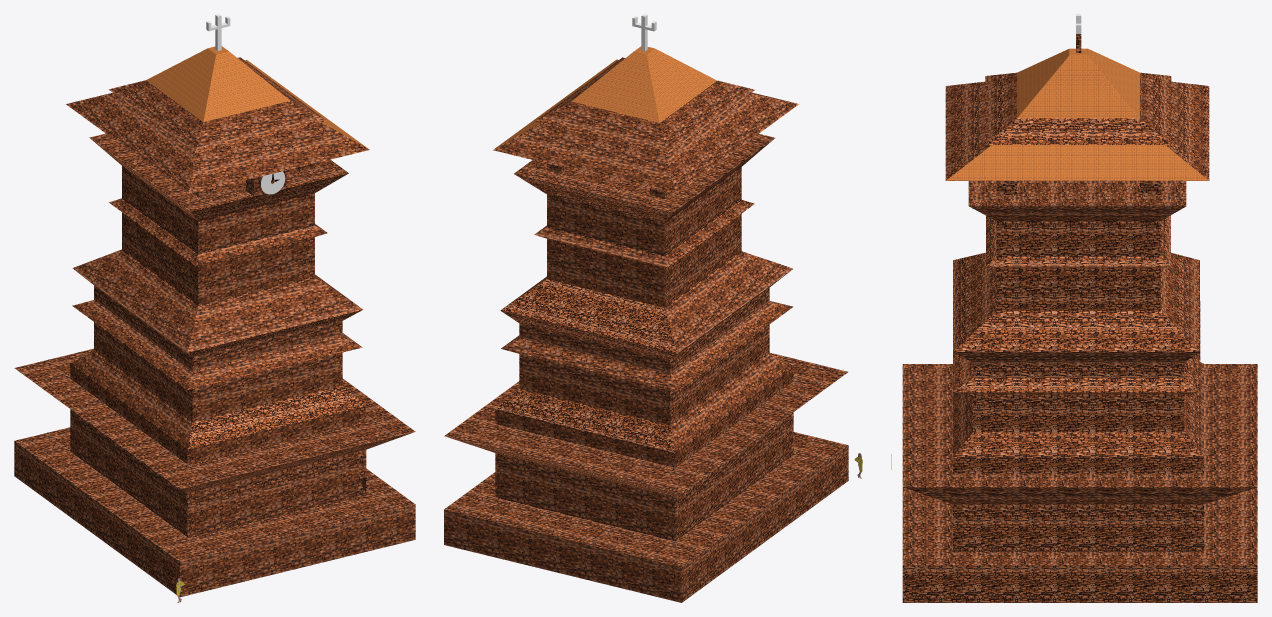
The model's file is menara-kudus.glb.
3 views of the same model, side by side, from view 1: azimuth 30°, elevation 25°; view 2: azimuth 150°, elevation 25°; view 3: azimuth 270°, elevation 25° (orthographic). The views are drawn at different scales.
Parts seen in each view (by area): view 1: Object_4, Object_12, Object_2; view 2: Object_4, Object_12; view 3: Object_4, Object_12.
Boxes of the visible parts, bbox=[...] form: Object_4: bbox=[14, 57, 415, 597]; Object_12: bbox=[146, 46, 368, 148]; Object_2: bbox=[176, 14, 285, 602]; Object_4: bbox=[444, 57, 848, 602]; Object_12: bbox=[495, 46, 716, 148]; Object_4: bbox=[902, 34, 1257, 602]; Object_12: bbox=[946, 48, 1208, 180].
Bounding box in the file's own units: 17.01 × 32.69 × 20.58.
Materials: 3 (3 with a texture image).
